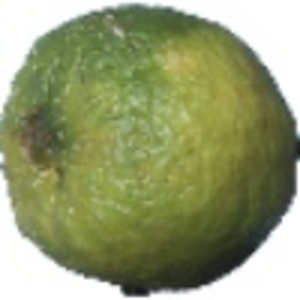limão: (1, 2, 300, 297)
